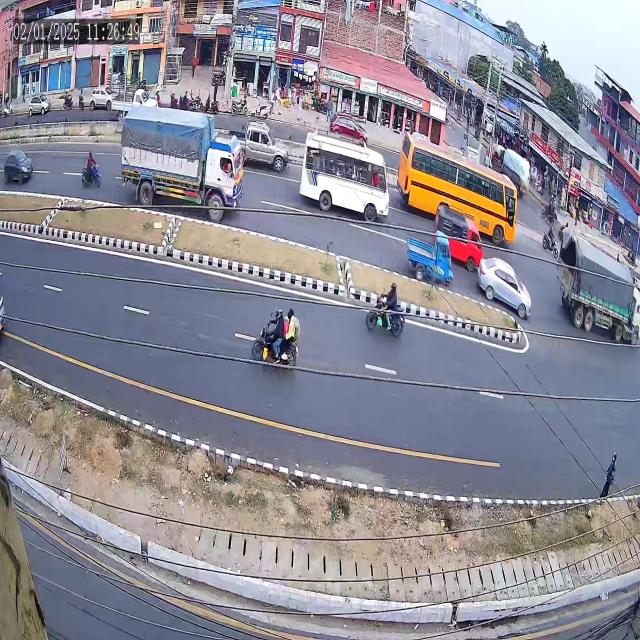bus: (398, 126, 521, 252), (298, 122, 394, 246)
car: (214, 99, 290, 177), (477, 254, 534, 332), (1, 135, 37, 196)
motorcycle: (250, 294, 306, 378), (363, 268, 406, 362), (74, 140, 102, 196)
truck: (113, 98, 247, 232)
